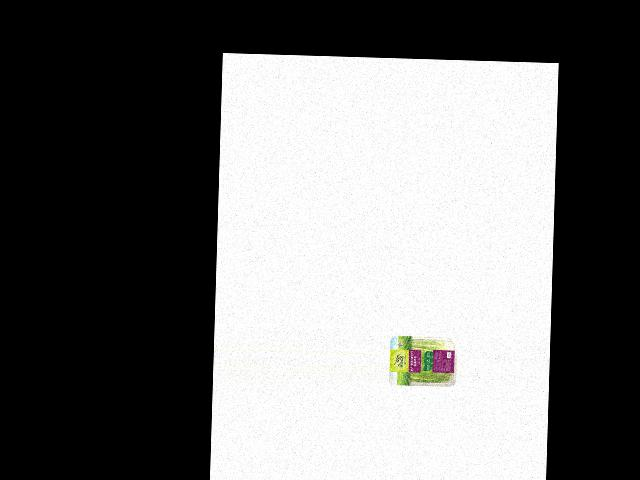lettuce: (393, 334, 458, 387)
